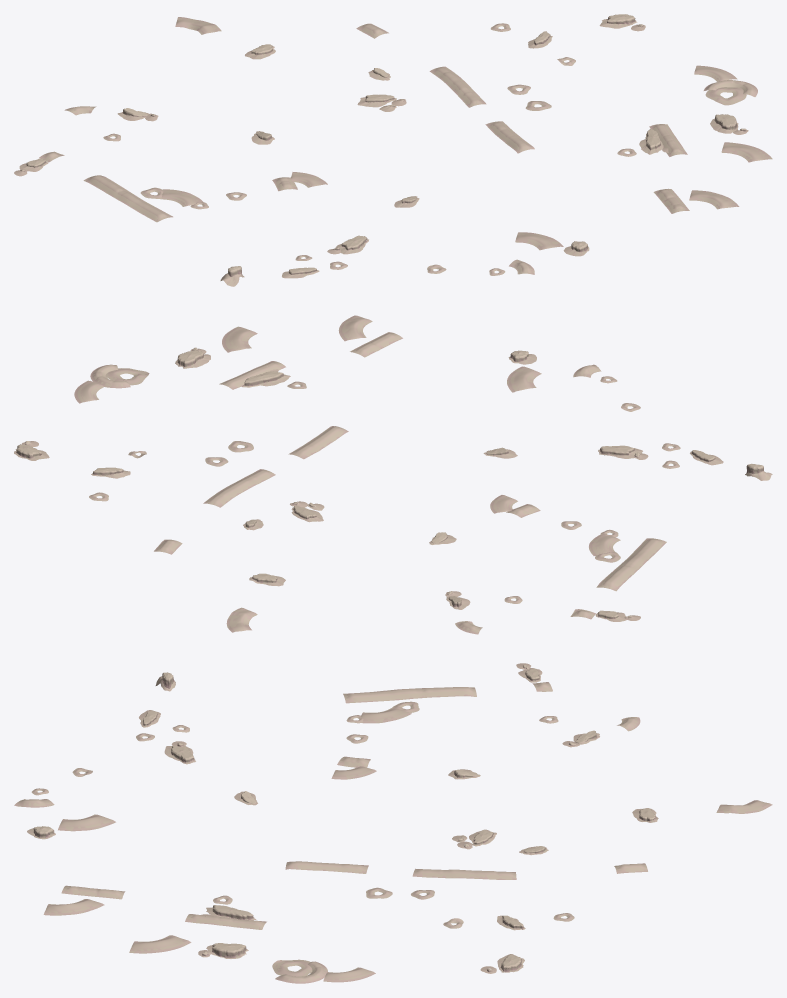
File: BermsVarietyRelief.glb
3 renders of one model, top to bottom at view 1: azimuth 30°, elevation 25°; view 2: azimuth 150°, elevation 25°; view 3: azimuth 270°, elevation 25°, orthographic. The views are drawn at different scales.
Visible parts, largest first — view 1: Earthworks_01_LOD0, Earthworks_01_COL, Earthworks_06_LOD0, Dunes_00_LOD0; view 2: Earthworks_01_LOD0, Earthworks_01_COL, Earthworks_06_LOD0; view 3: Earthworks_01_LOD0, Earthworks_01_COL, Earthworks_06_LOD0, Dunes_00_LOD0, Dunes_02_LOD0, Dunes_01_LOD0.
Boxes of the visible parts, box(x1,y1,x2,y2) form: Earthworks_01_LOD0: box(85, 175, 172, 221); Earthworks_01_COL: box(83, 175, 171, 222); Earthworks_06_LOD0: box(429, 66, 486, 107); Dunes_00_LOD0: box(721, 142, 770, 162); Earthworks_01_LOD0: box(598, 538, 665, 590); Earthworks_01_COL: box(596, 538, 666, 590); Earthworks_06_LOD0: box(203, 469, 275, 507); Earthworks_01_LOD0: box(343, 687, 476, 703); Earthworks_01_COL: box(343, 687, 476, 702); Earthworks_06_LOD0: box(412, 869, 516, 879); Dunes_00_LOD0: box(130, 935, 191, 953); Dunes_02_LOD0: box(58, 814, 115, 831); Dunes_01_LOD0: box(43, 899, 104, 915).
Size of what is drawn, in the model's own units: 406 by 10.45 by 392.
